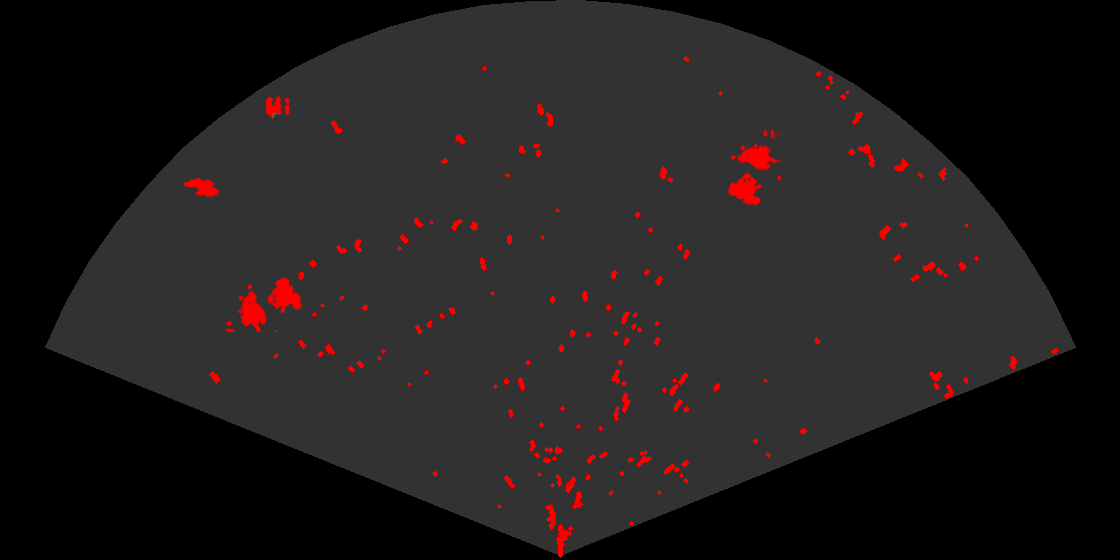AUV: (181, 176, 221, 199)
ball: (264, 94, 291, 120)
cage: (226, 275, 304, 332), (726, 130, 781, 208)
